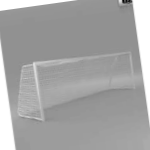goals: (16, 50, 137, 123)
